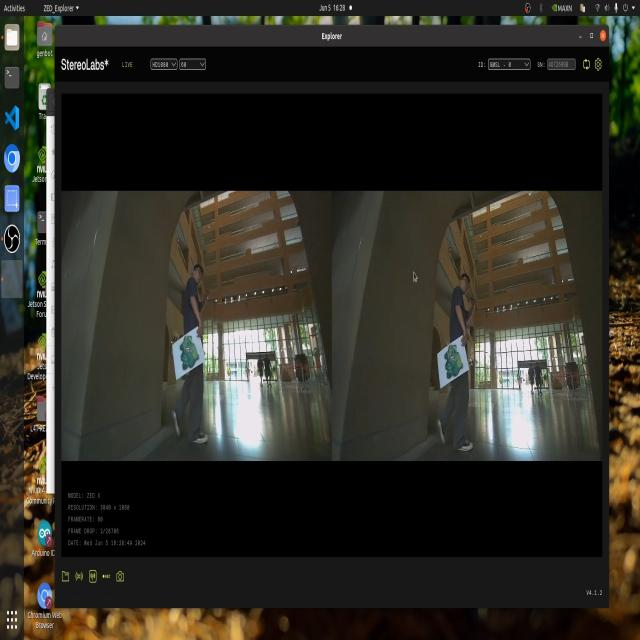green: (442, 341, 466, 382), (179, 335, 197, 363)
